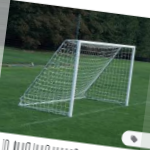goals: (17, 38, 137, 119)
